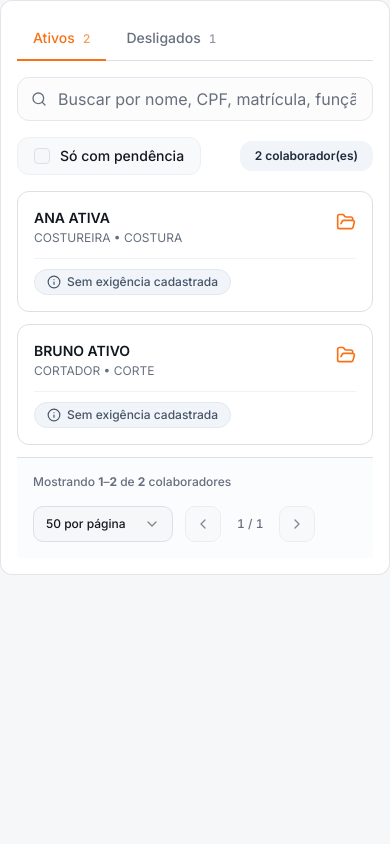
abas de ativos e desligados › a aba de desligados mostra só quem saiu
Click the button "Desligados1".
click(172, 39)  # box [110,17,232,61]
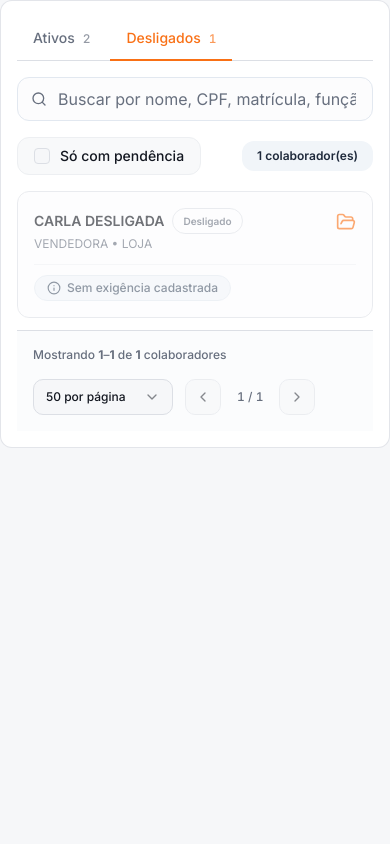
Expected: the text "CARLA DESLIGADA Desligado" is shown, [34,208,243,234]
Expected: no buttons "ANA ATIVA" are shown
